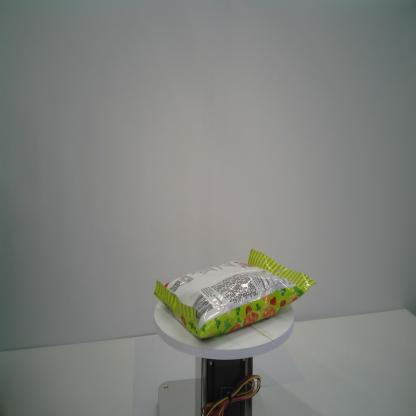Puffed Food: (153, 244, 316, 342)
